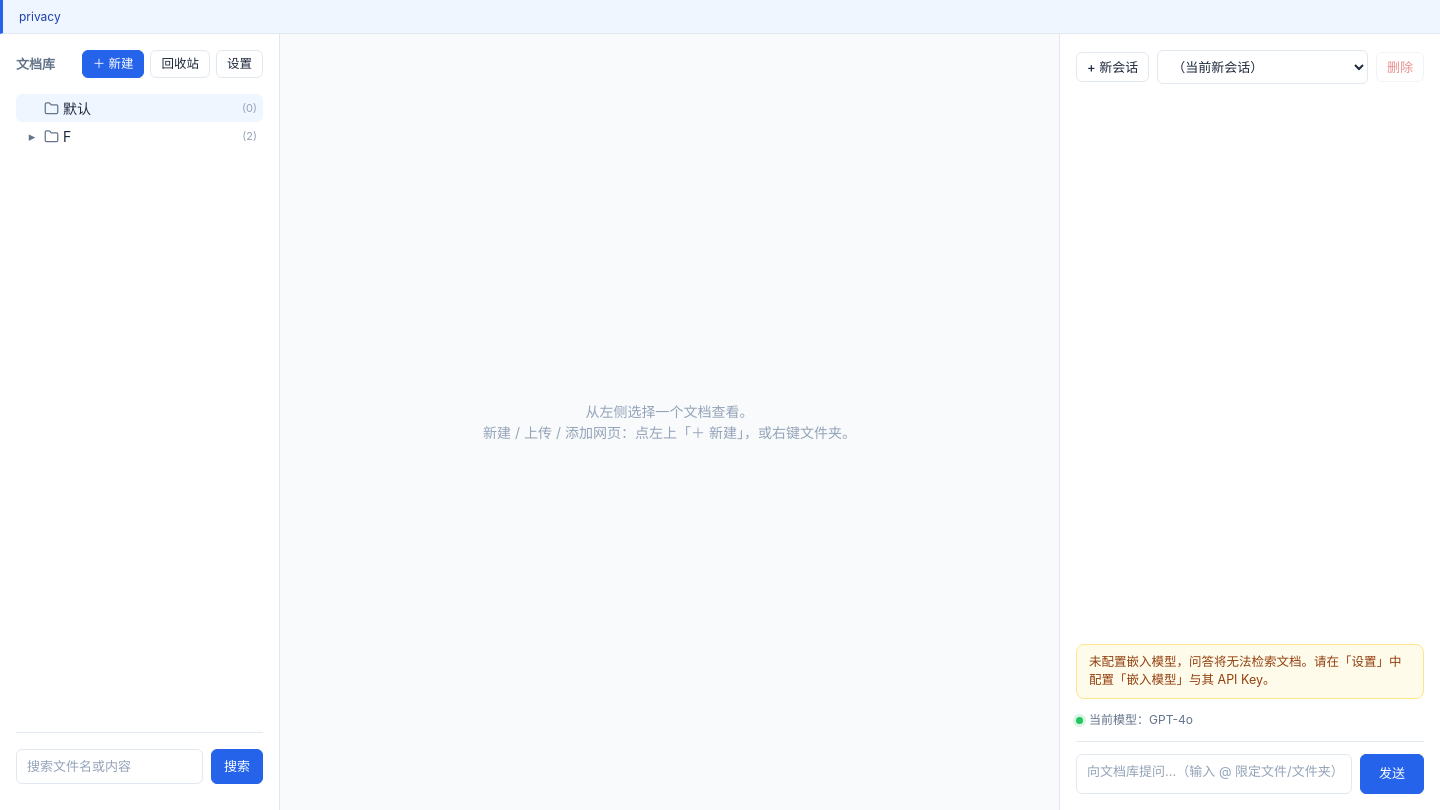
Test case: App › opens a document from the tree and previews it
The width and height of the screenshot is (1440, 810).
Click the text "F".
click(67, 136)  # box [63, 128, 71, 145]
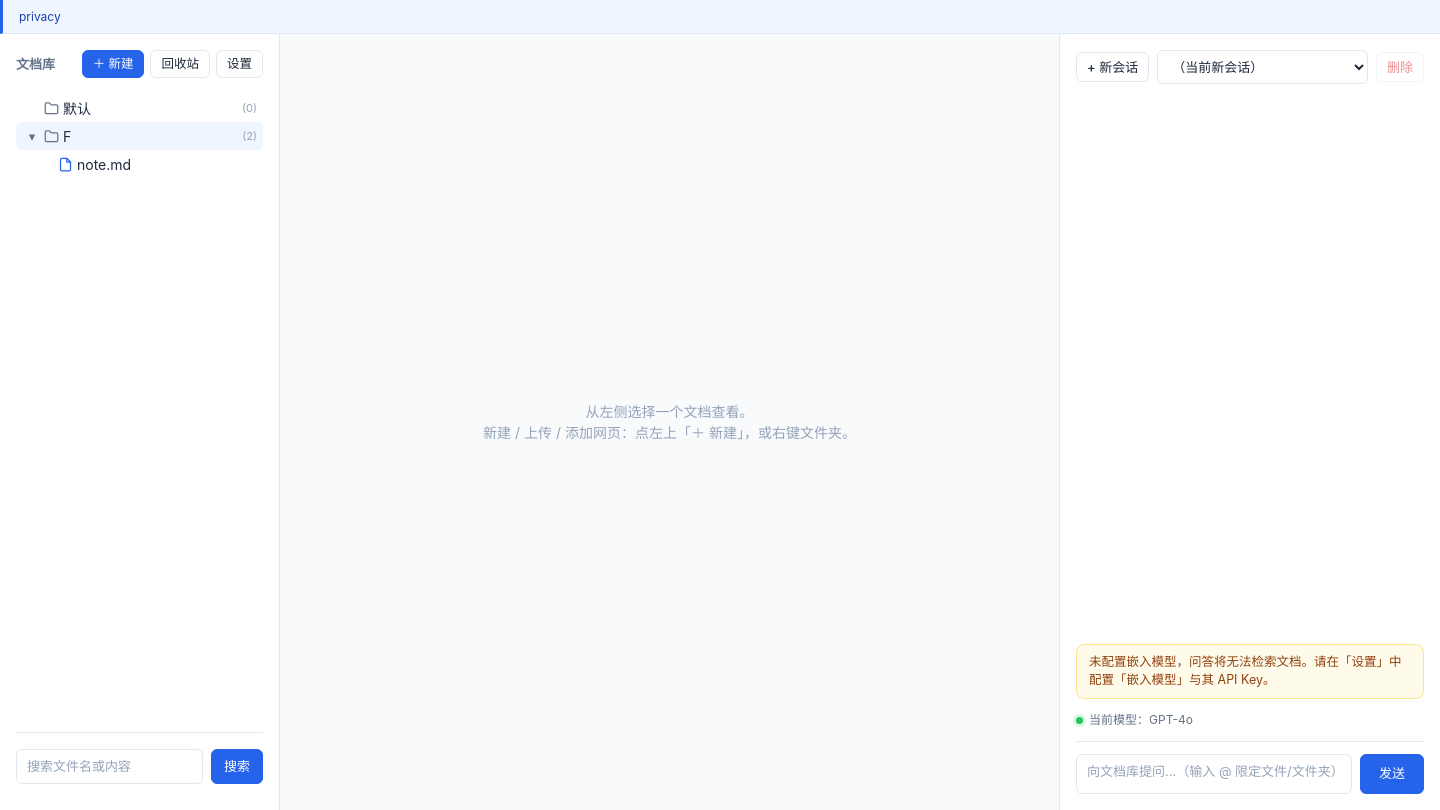
Now the text "note.md" is shown
Click the text "note.md".
click(104, 164)  # box [77, 156, 131, 173]
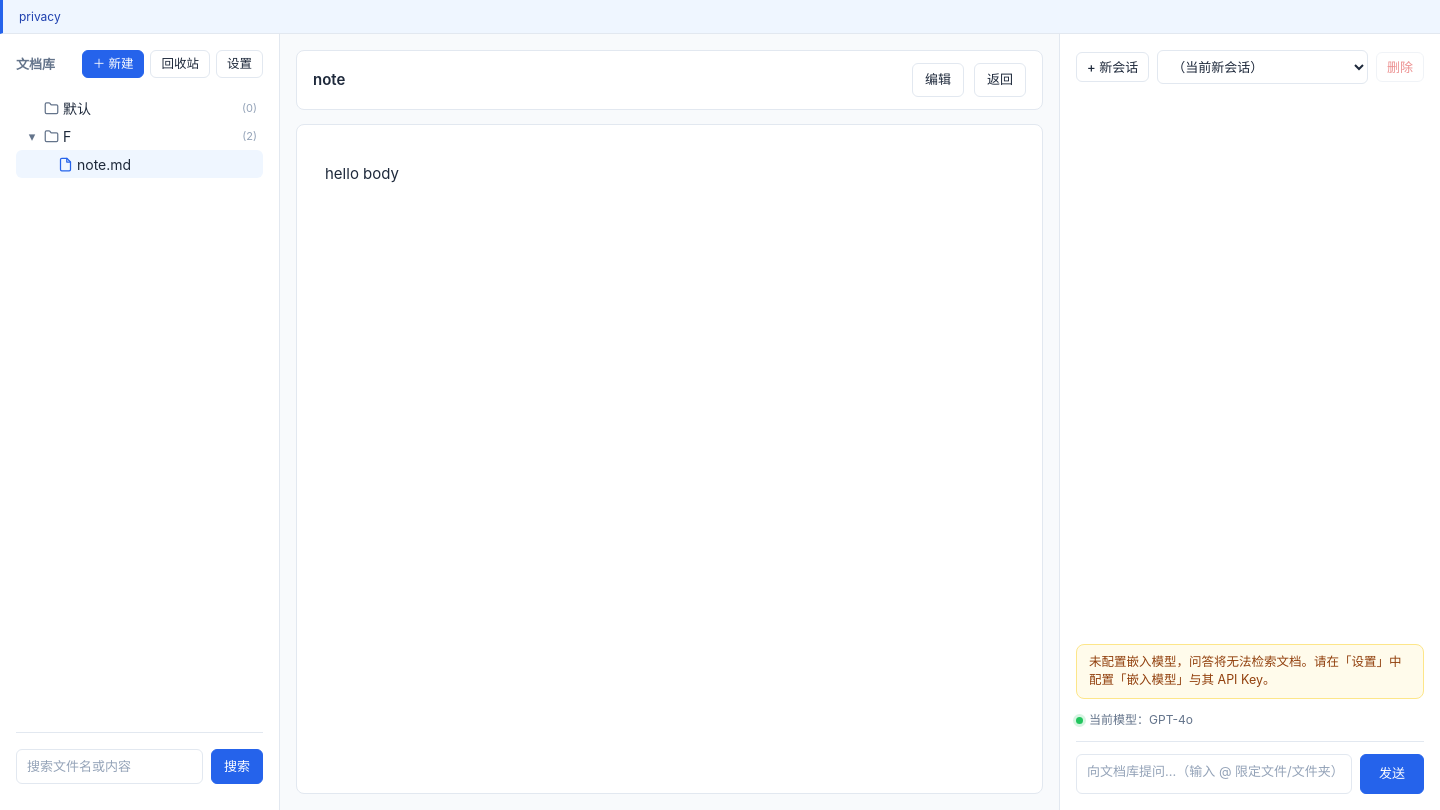
Now the text "hello body" is shown, box [325, 164, 399, 183]
